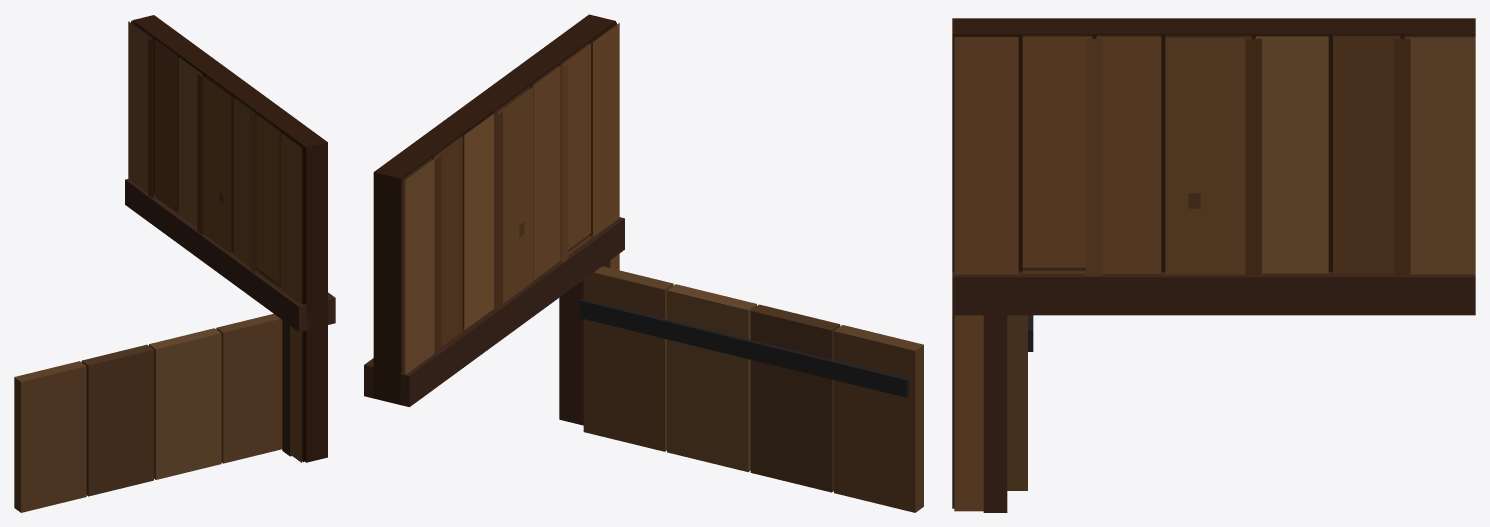
Rendered from wall-timber-door-open-high-r.glb.
3 renders of one model, left to right at view 1: azimuth 30°, elevation 25°; view 2: azimuth 150°, elevation 25°; view 3: azimuth 270°, elevation 25°, orthographic. The views are drawn at different scales.
Parts seen in each view (by area): view 1: wall-timber-door-open-high-r; view 2: wall-timber-door-open-high-r; view 3: wall-timber-door-open-high-r.
Part boxes in pixels (x1,y1,x2,y2): wall-timber-door-open-high-r: (14,15,335,512); wall-timber-door-open-high-r: (364,14,923,512); wall-timber-door-open-high-r: (952,18,1475,512).
Size of the model in its own units: 0.984 by 1 by 1.
